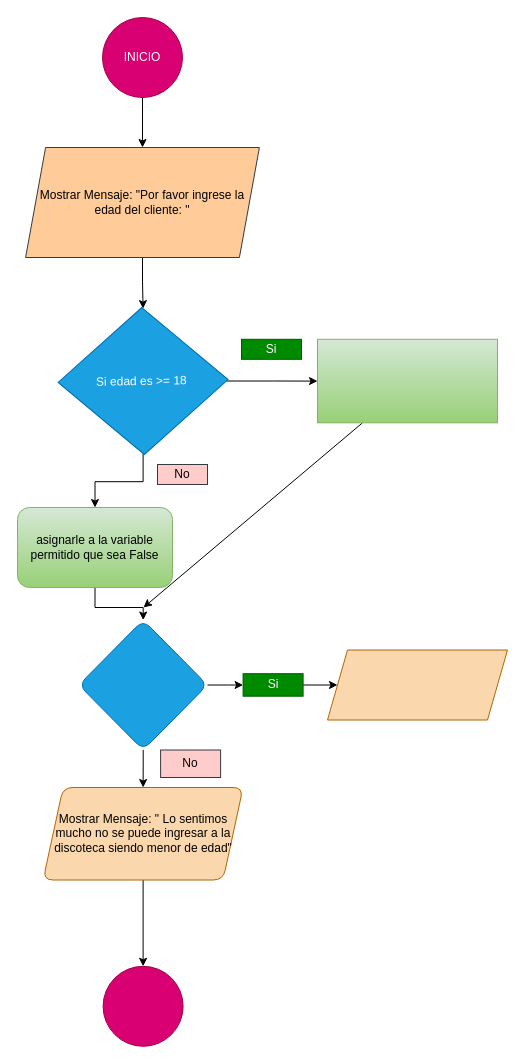
This 525x1064 diagram has some shape labels left out. The shapes that lost their labels are listed below. From the top down, each one's centre as x and y in pixels, then its label:
(407,380): asignarle a la variable permitido que sea True
(143,684): ¿Está permitido el ingreso según la edad ?
(417,684): Mostrar Mensaje: "puedes ingresar a la discoteca"
(142,1005): FIN
